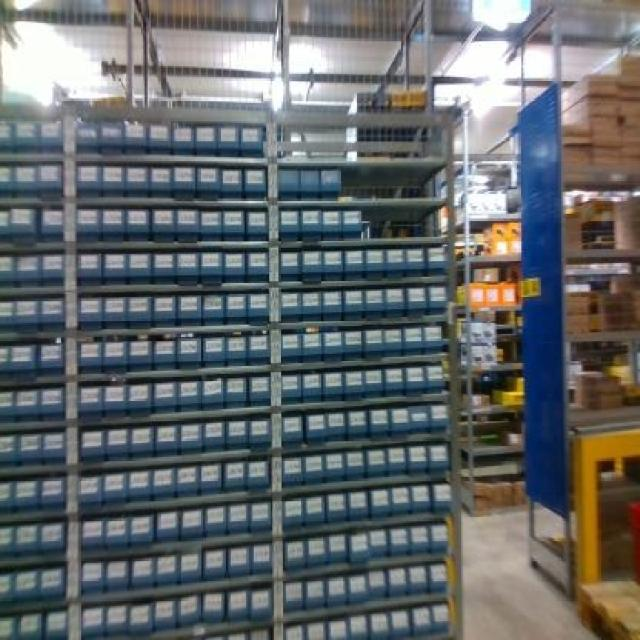pallets: (0, 100, 455, 637), (288, 128, 338, 154)
